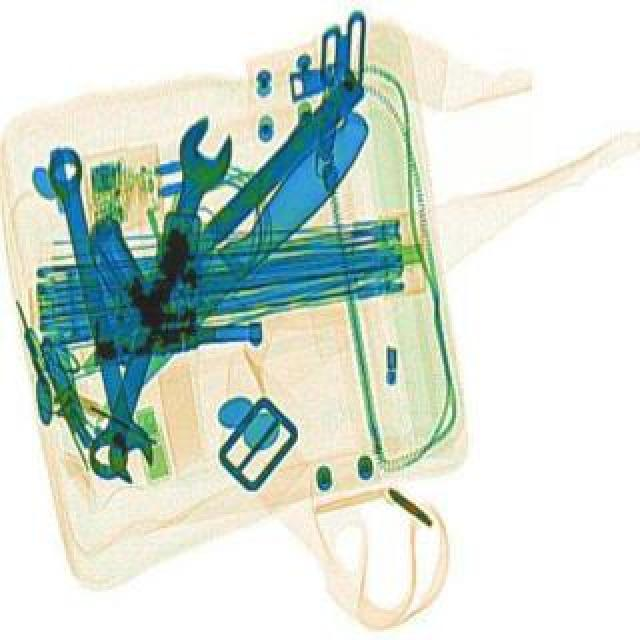gun: (80, 204, 262, 362)
knife: (74, 70, 370, 376), (102, 100, 390, 388)
scissors: (74, 110, 238, 482), (34, 142, 158, 484)
